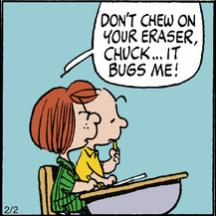charlie: (74, 86, 130, 190)
